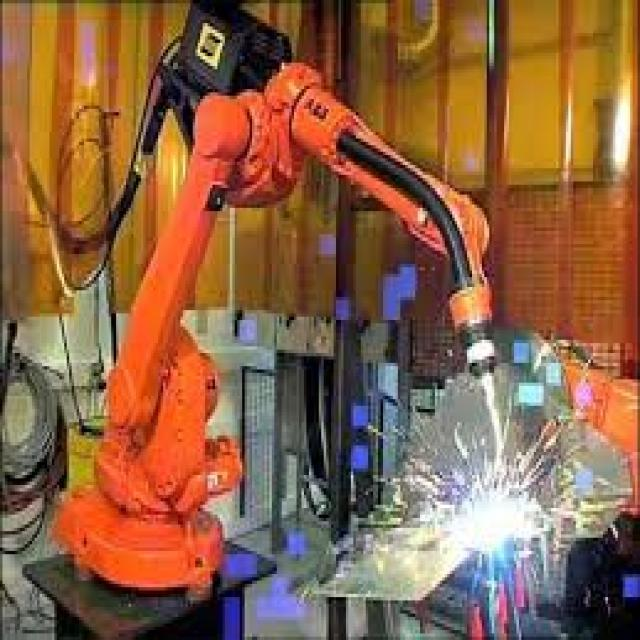welding: (460, 491, 516, 548)
